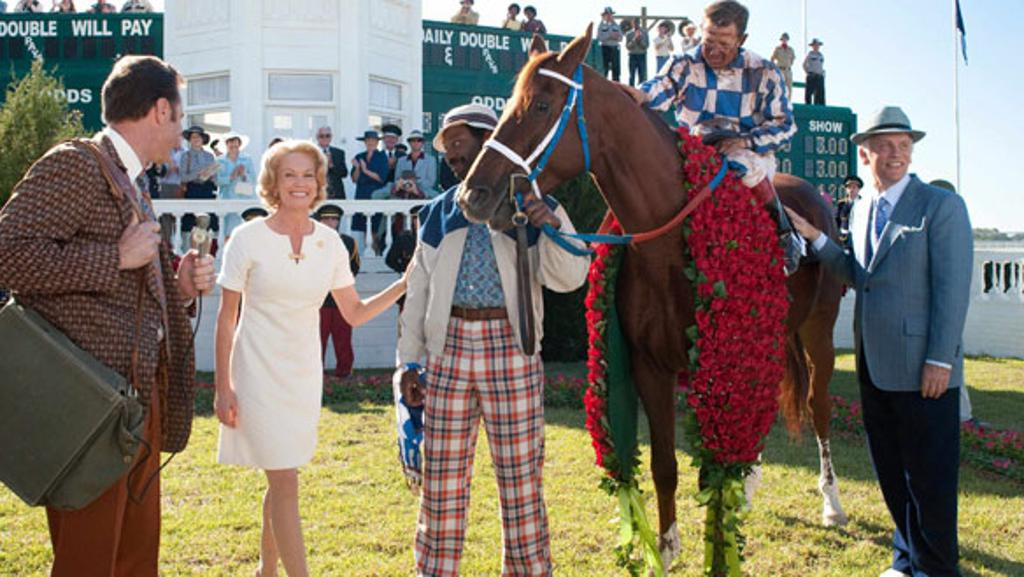face: (156, 86, 189, 162), (866, 130, 915, 181), (441, 125, 485, 180), (278, 151, 319, 209), (701, 19, 739, 69), (321, 214, 339, 231), (246, 217, 263, 233), (228, 140, 240, 158), (319, 129, 331, 146), (190, 133, 203, 147), (385, 134, 397, 147), (273, 142, 283, 157), (411, 137, 423, 149), (366, 137, 377, 150), (847, 183, 858, 194), (404, 178, 414, 190), (396, 149, 406, 160), (200, 217, 209, 228), (214, 145, 223, 155), (526, 10, 534, 19), (412, 213, 419, 223), (510, 7, 517, 16), (63, 2, 71, 9), (660, 28, 667, 36), (631, 20, 638, 28), (464, 1, 471, 9), (395, 217, 401, 225), (606, 13, 612, 21), (813, 42, 819, 49), (687, 27, 692, 35), (783, 38, 788, 44)
